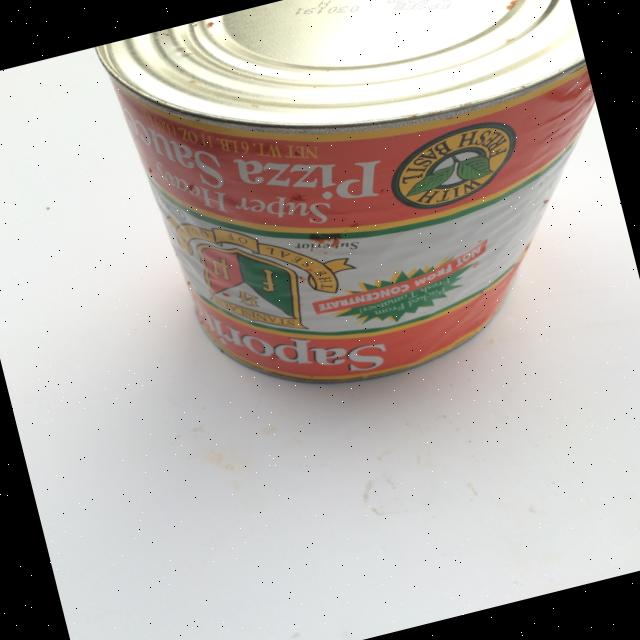metal: (93, 0, 640, 425)
